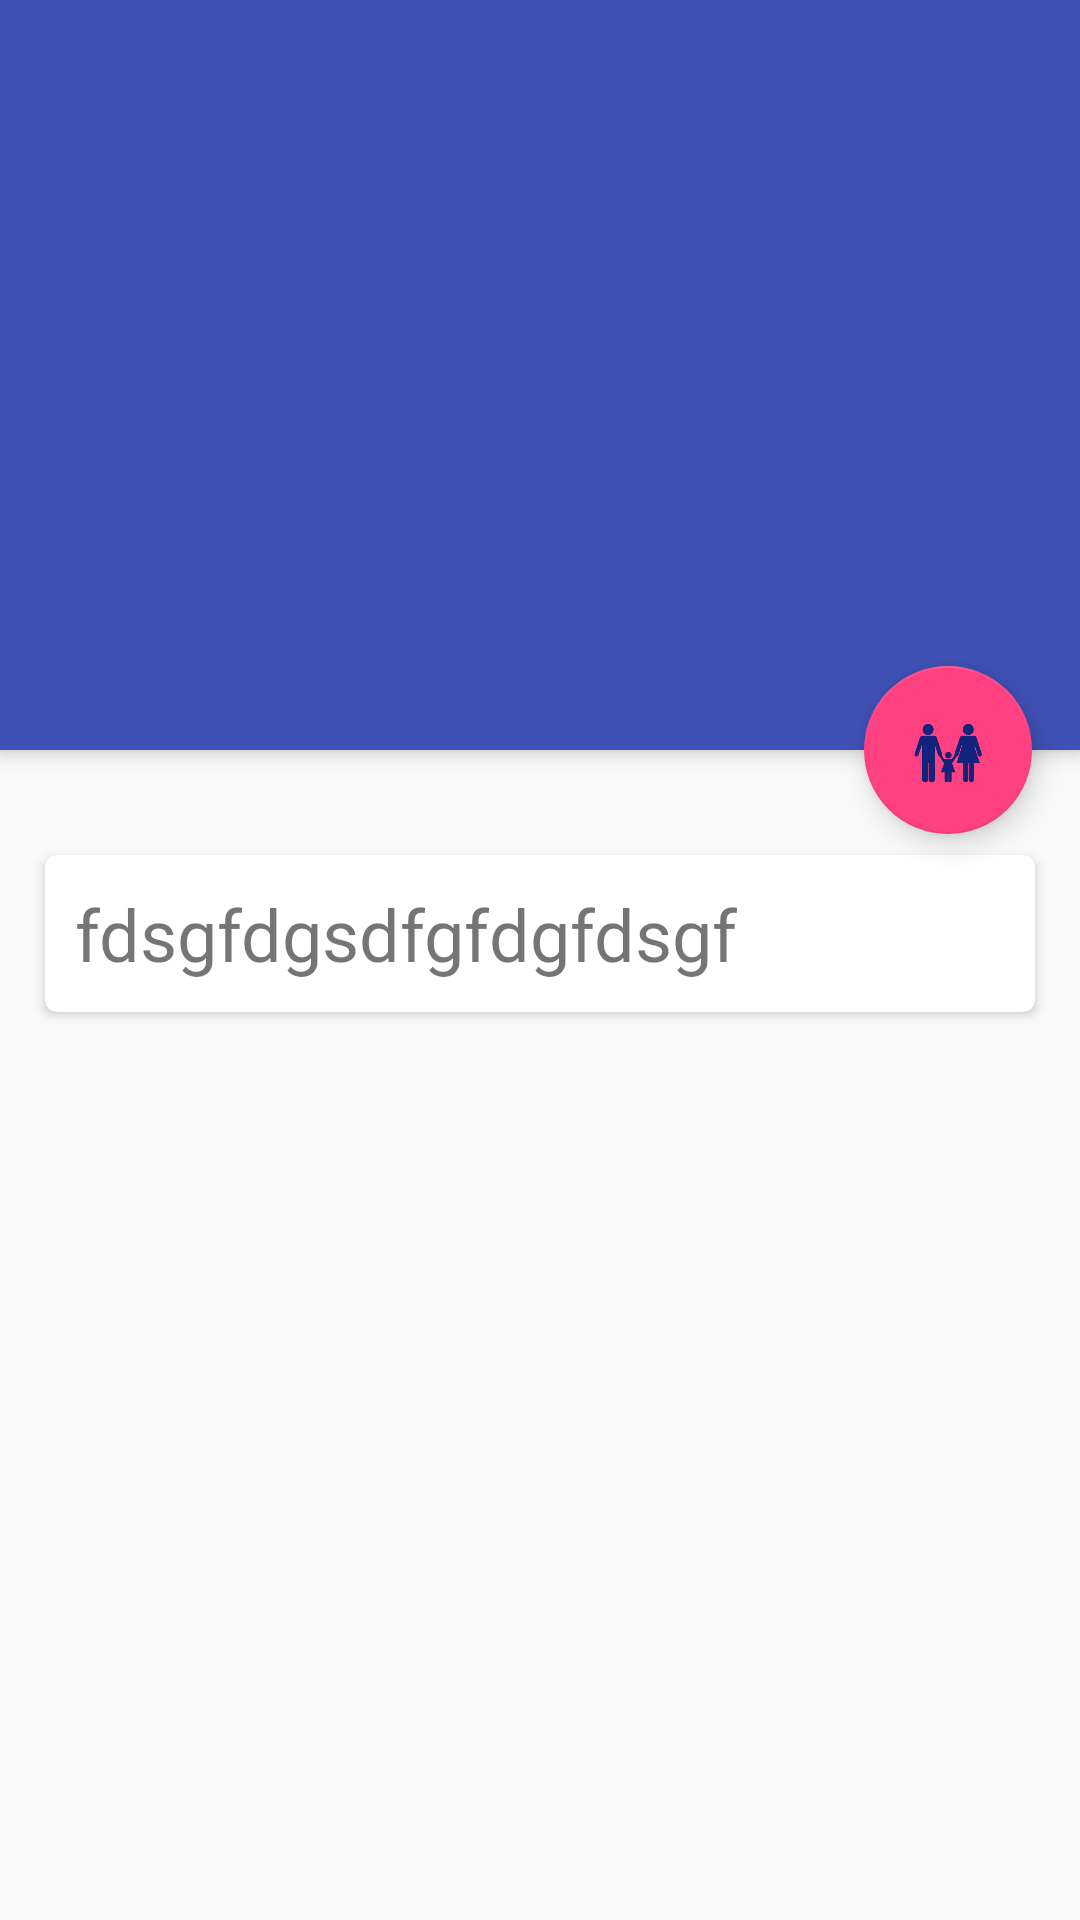

Icon click points for this 1080 x 1920 phone screenshot, format [x,y]:
adoptnew: [948,750]
